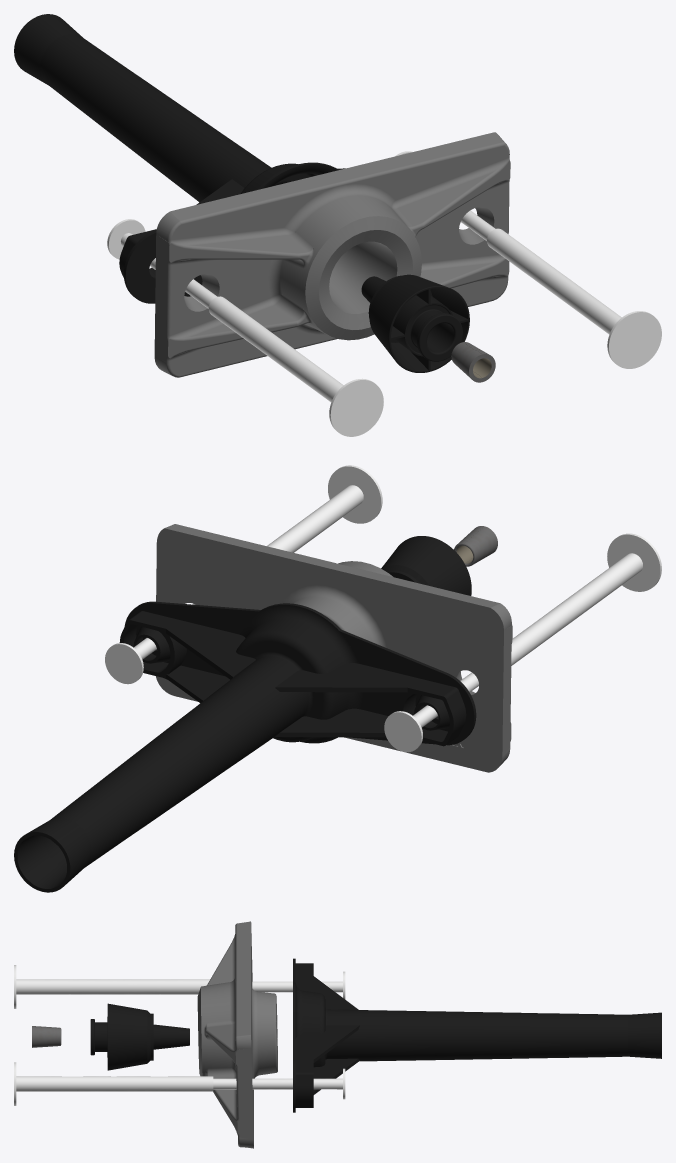
The model's file is CONEXAO.glb.
3 renders of one model, top to bottom at view 1: azimuth 30°, elevation 25°; view 2: azimuth 150°, elevation 25°; view 3: azimuth 270°, elevation 25°, orthographic. The views are drawn at different scales.
Visible parts, largest first — view 1: Ancoragem, Adaptador, Tirante, Pocket, Cunha; view 2: Adaptador, Ancoragem, Tirante, Pocket, Cunha; view 3: Adaptador, Ancoragem, Tirante, Pocket, Cunha.
Boxes of the visible parts, box(x1,y1,x2,y2) form: Ancoragem: box(154, 132, 510, 377); Adaptador: box(14, 14, 345, 303); Tirante: box(107, 151, 661, 436); Pocket: box(361, 274, 469, 372); Cunha: box(451, 342, 495, 382); Adaptador: box(14, 601, 476, 892); Ancoragem: box(156, 524, 512, 772); Tirante: box(105, 465, 661, 752); Pocket: box(381, 536, 471, 595); Cunha: box(454, 526, 497, 566); Adaptador: box(293, 958, 661, 1112); Ancoragem: box(197, 921, 277, 1148); Tirante: box(14, 965, 345, 1105); Pocket: box(90, 1003, 189, 1070); Cunha: box(32, 1026, 61, 1047).
Bounding box in the file's own units: 2 × 0.8914 × 4.5.
9 materials, 1 textured.
